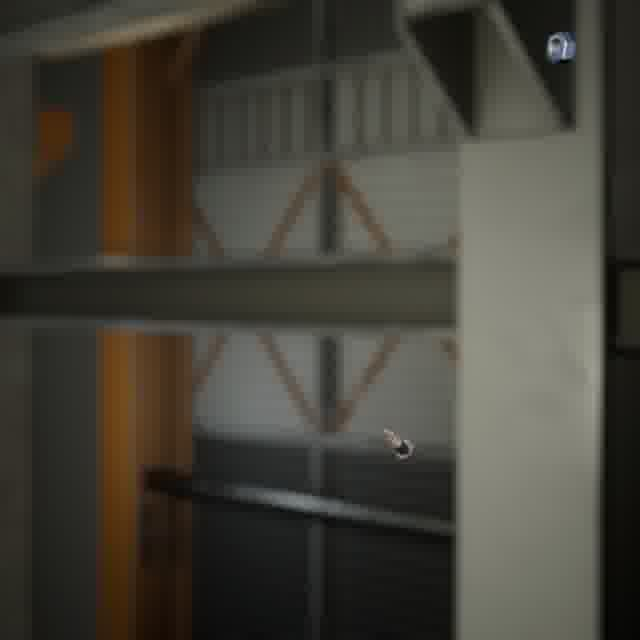bolt: (377, 424, 420, 465)
nut: (541, 27, 580, 68)
